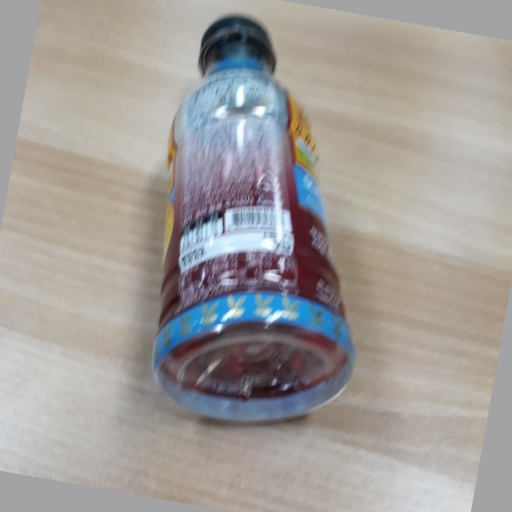Plastic_0: (147, 10, 356, 421)
